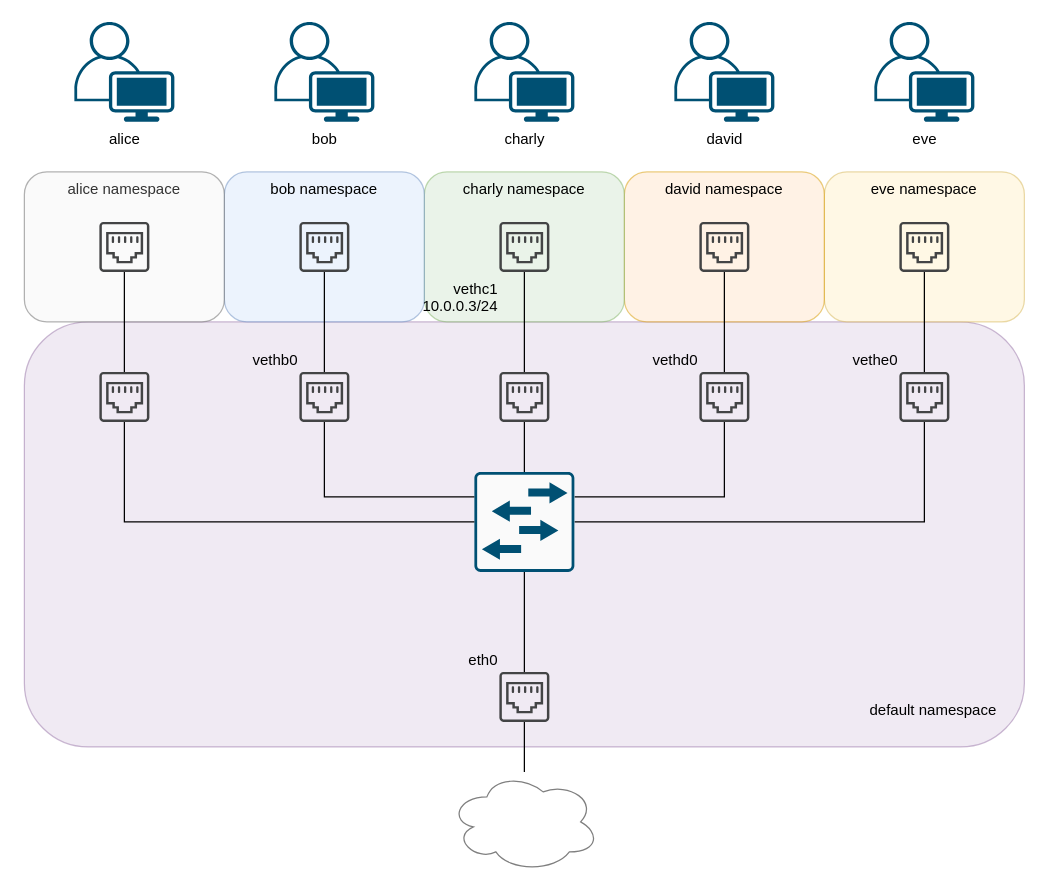
Image size: 1046x894. Some labels were removed from this diagram. The centre of each missing label's shape, as x and y in pixels:
"bridge0" goes at (523,521).
"vetha0" goes at (124,396).
"vetha1 10.0.0.1/24" goes at (124,246).
"vethb1 10.0.0.2/24" goes at (324,246).
"vethc0" goes at (524,396).
"vethd1 10.0.0.4/24" goes at (724,246).
"vethe1 10.0.0.5/24" goes at (924,246).
